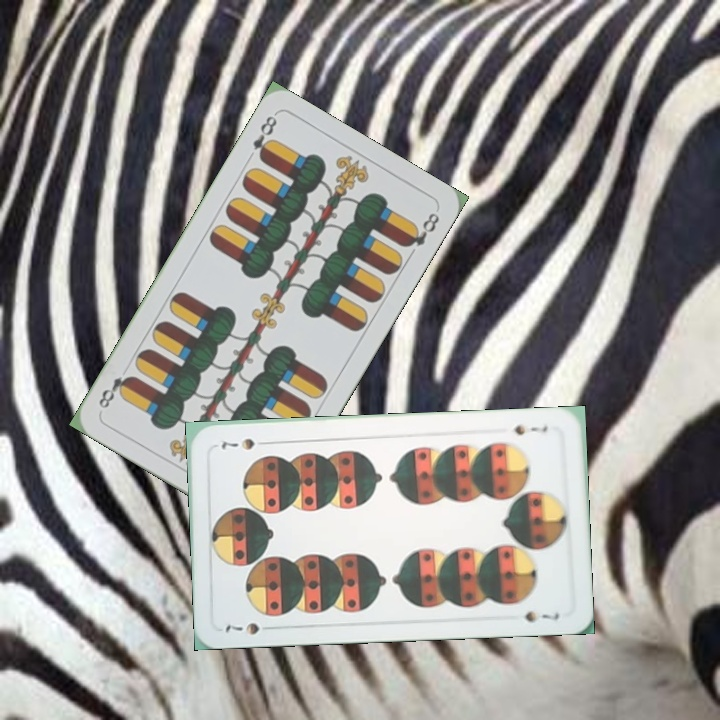E8: (248, 111, 280, 164)
S7: (221, 618, 263, 638), (510, 421, 551, 438)
